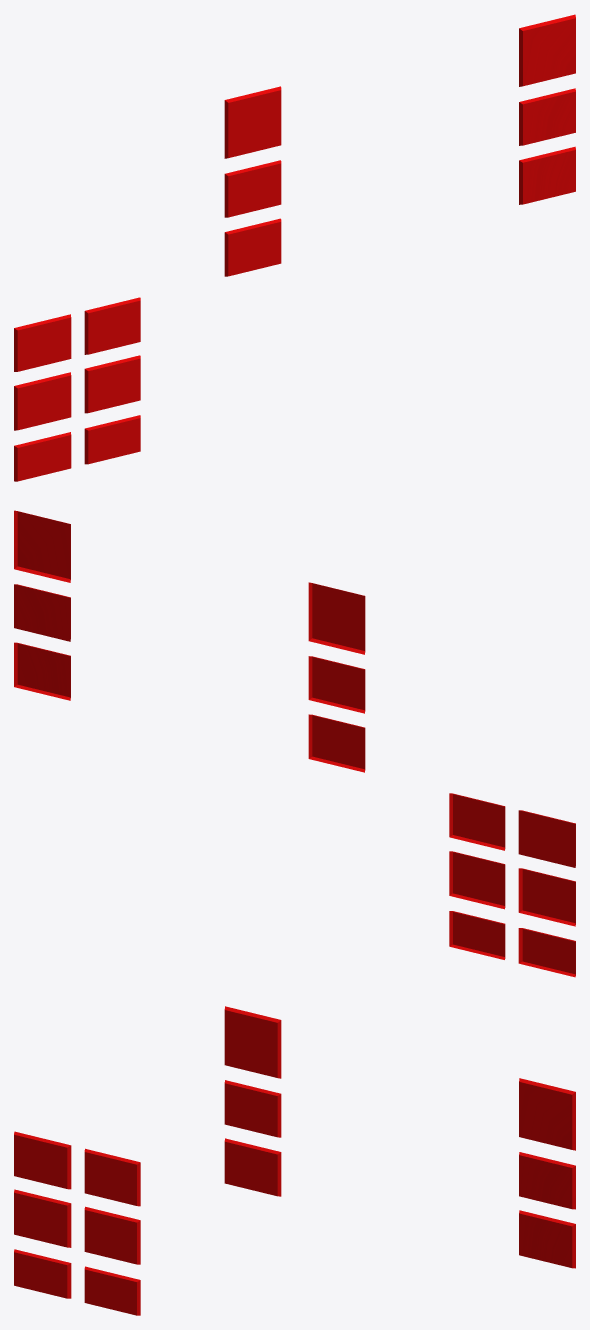
The model's file is cajonesRojos.obj.
The picture shows the model from 3 angles, top to bottom: view 1: azimuth 30°, elevation 25°; view 2: azimuth 150°, elevation 25°; view 3: azimuth 330°, elevation 25°; orthographic projection.
Visible parts, largest first — view 1: Gavetas; view 2: Gavetas; view 3: Gavetas.
Part boxes in pixels (x1=…): Gavetas: x1=14, y1=14, x2=575, y2=481; Gavetas: x1=14, y1=510, x2=575, y2=977; Gavetas: x1=14, y1=1006, x2=575, y2=1315.
Size of the model in its own units: 800 by 449 by 5.11.
1 material, 1 textured.
